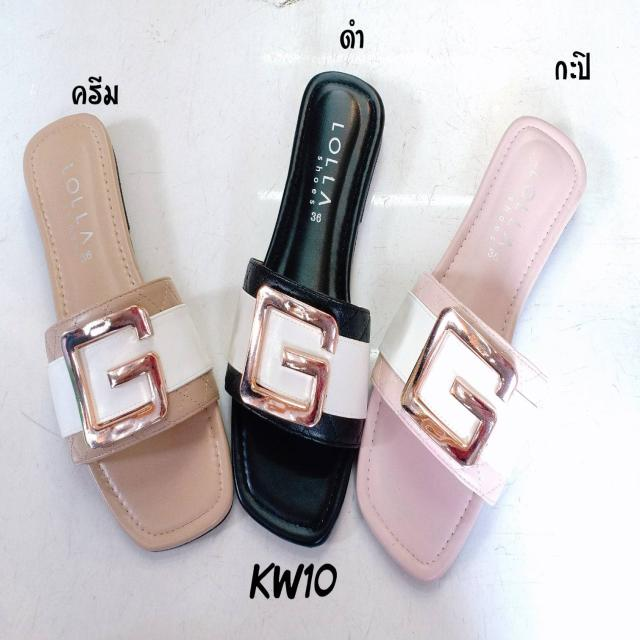black: (238, 74, 385, 545)
cream: (23, 117, 235, 549)
kapi: (353, 109, 589, 585)
